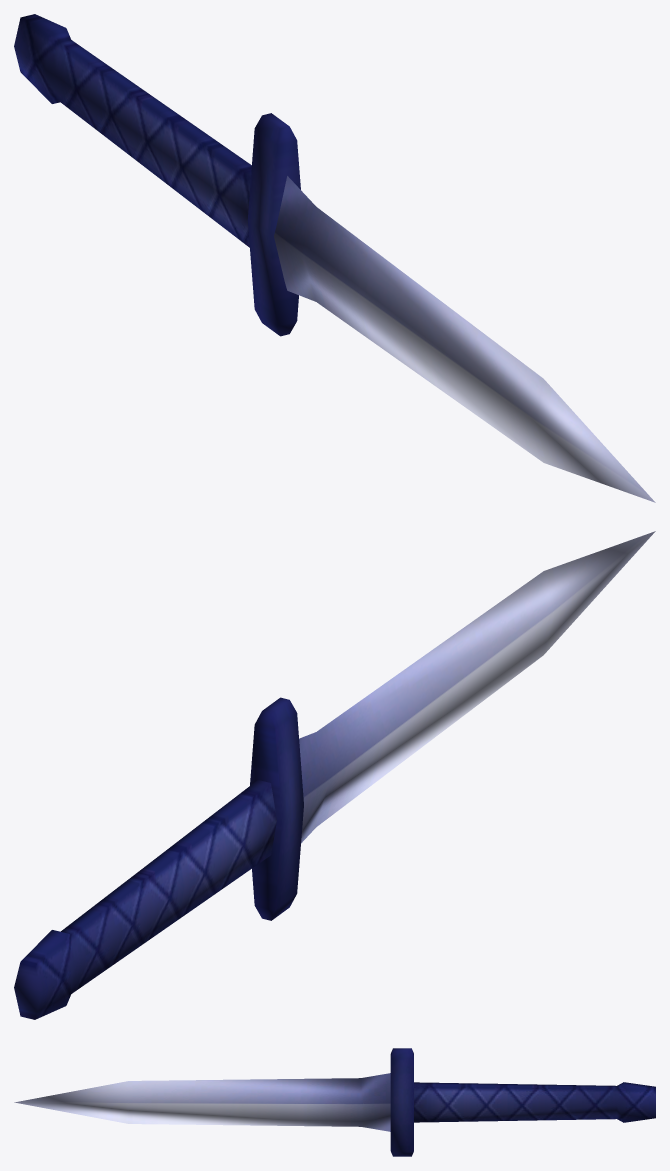
File: Sakuya's Knife.obj
The picture shows the model from 3 angles, top to bottom: view 1: azimuth 30°, elevation 25°; view 2: azimuth 150°, elevation 25°; view 3: azimuth 270°, elevation 25°; orthographic projection. The views are drawn at different scales.
Visible parts, largest first — view 1: Model::Mesh_1; view 2: Model::Mesh_1; view 3: Model::Mesh_1.
Boxes of the visible parts, <box> form: Model::Mesh_1: <box>14,14,655,502</box>; Model::Mesh_1: <box>14,531,655,1019</box>; Model::Mesh_1: <box>14,1048,655,1156</box>.
Bounding box in the file's own units: 1.85 × 10.95 × 60.03.
Materials: 1 (1 with a texture image).
